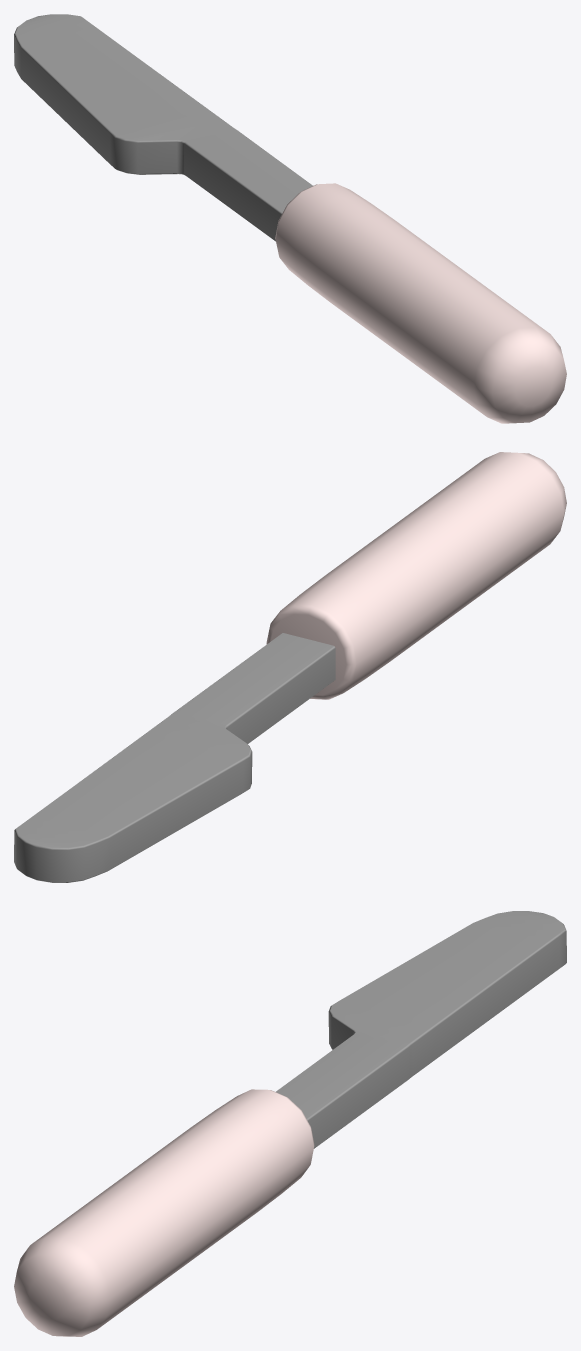
File: Store_20_Knife_1.glb
3 views of the same model, one above another, from view 1: azimuth 30°, elevation 25°; view 2: azimuth 150°, elevation 25°; view 3: azimuth 330°, elevation 25° (orthographic). The views are drawn at different scales.
Parts seen in each view (by area): view 1: Store_20_Knife_1; view 2: Store_20_Knife_1; view 3: Store_20_Knife_1.
Boxes of the visible parts, bbox=[...] form: Store_20_Knife_1: bbox=[14, 14, 566, 423]; Store_20_Knife_1: bbox=[14, 452, 566, 882]; Store_20_Knife_1: bbox=[14, 911, 566, 1336].
Bounding box in the file's own units: 0.0326 × 0.0251 × 0.2348.
1 material, 1 textured.
